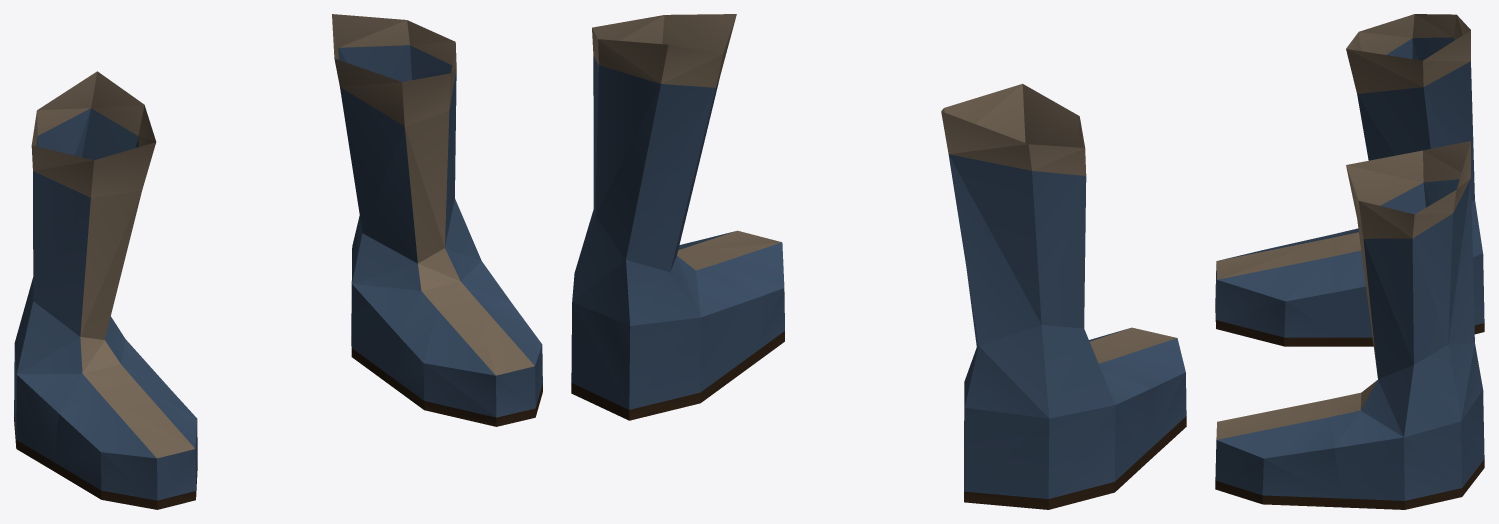
File: UniqueOrientalBoots.dae
3 renders of one model, left to right at view 1: azimuth 30°, elevation 25°; view 2: azimuth 150°, elevation 25°; view 3: azimuth 270°, elevation 25°, orthographic. The views are drawn at different scales.
Parts seen in each view (by area): view 1: Boots; view 2: Boots; view 3: Boots.
Part boxes in pixels (box(x1,y1,x2,y2)): Boots: box(14, 14, 542, 509); Boots: box(571, 14, 1186, 509); Boots: box(1215, 14, 1484, 509).
Bounding box in the file's own units: 2.62 × 1.36 × 1.75.
